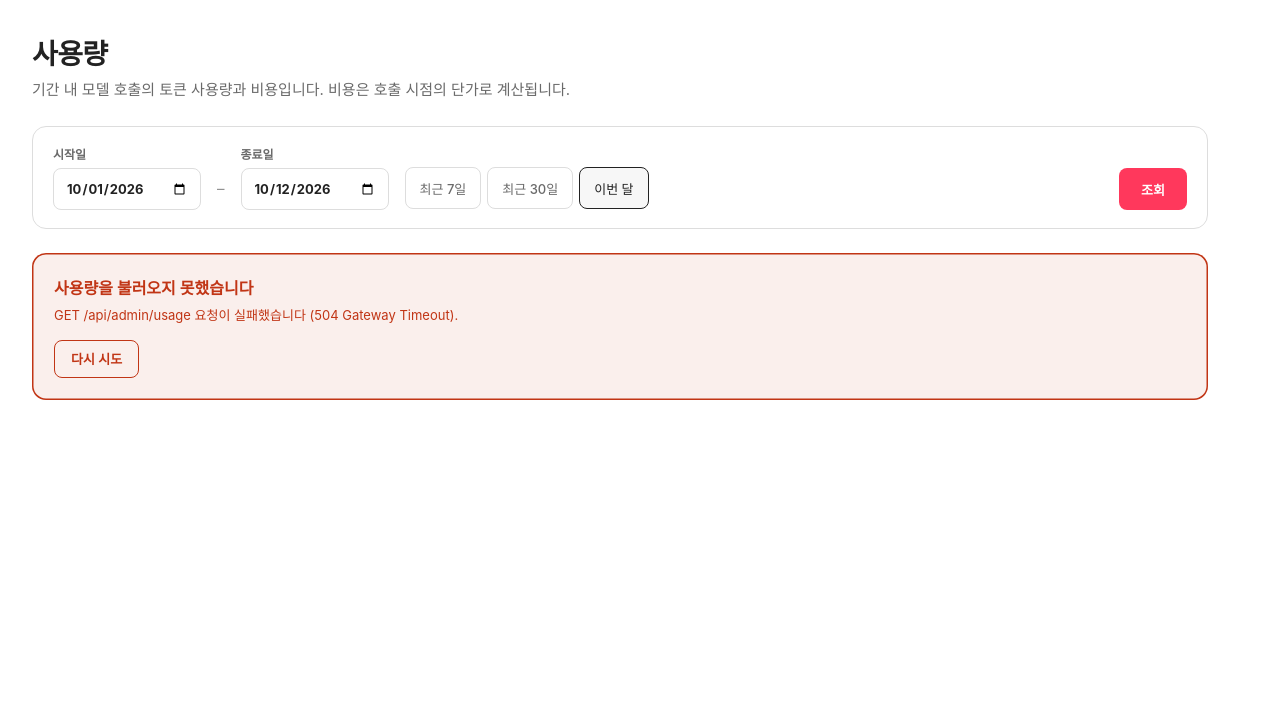
Test: UsageDashboard › 에러 상태 › shows the retry-capable error banner reflecting the real status code, and retries on click
The image size is (1280, 720).
Check: the message shows "사용량을 불러오지 못했습니다", box 54,278 -> 253,298
Check: the text "GET /api/admin/usage 요청이 실패했습니다 (504 Gateway Timeout)." is shown, box 54,305 -> 458,326
Click the button "다시 시도".
click(97, 359)  # box 54,340 -> 139,378
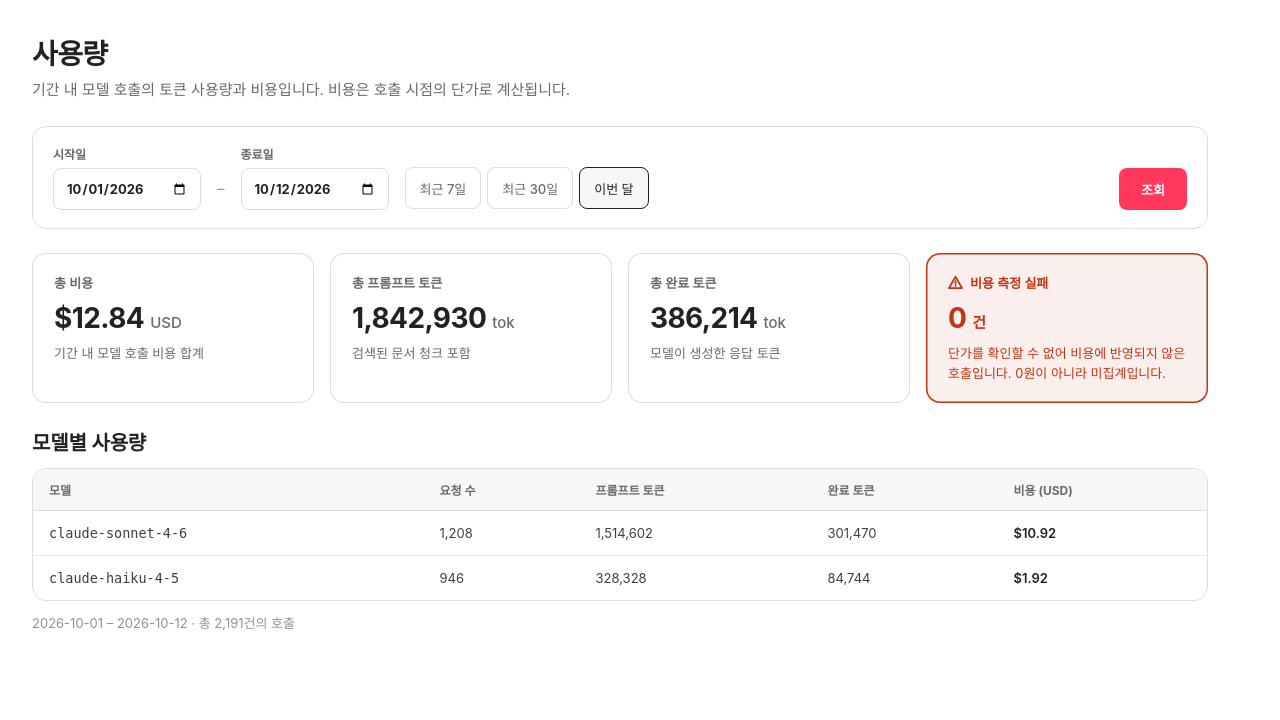
Check: the text "$12.84" is shown, box 54,301 -> 144,335
